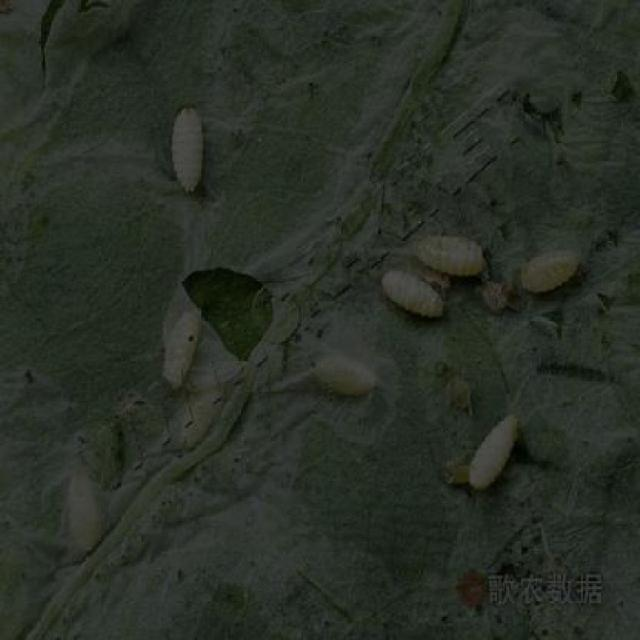whorl-maggot: (466, 401, 522, 494), (515, 238, 588, 302), (166, 97, 211, 192), (378, 263, 449, 323), (416, 228, 486, 282), (311, 348, 377, 402), (68, 469, 103, 554), (163, 312, 199, 389)
